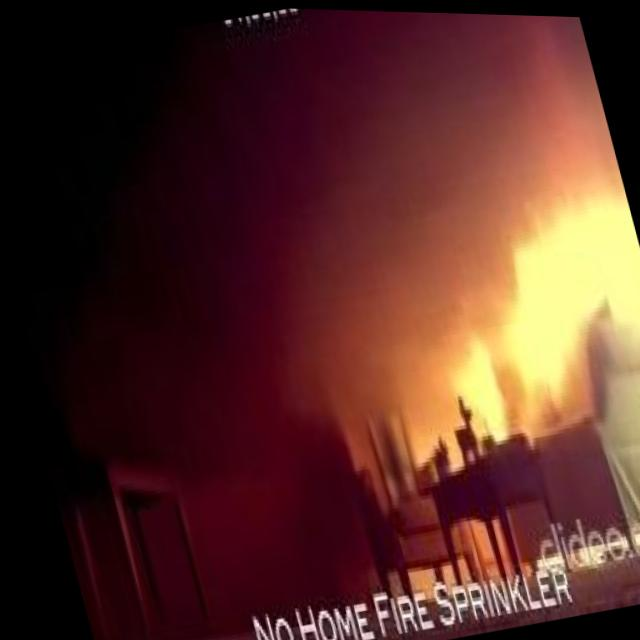fire: (464, 177, 640, 365), (471, 212, 587, 401), (446, 331, 511, 442)
